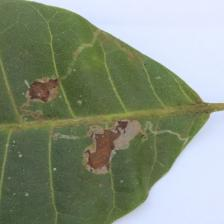leaf miner: (71, 109, 154, 184), (22, 72, 69, 107)
